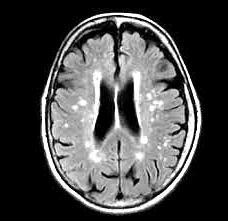Normal_Brain: (29, 1, 228, 221)
